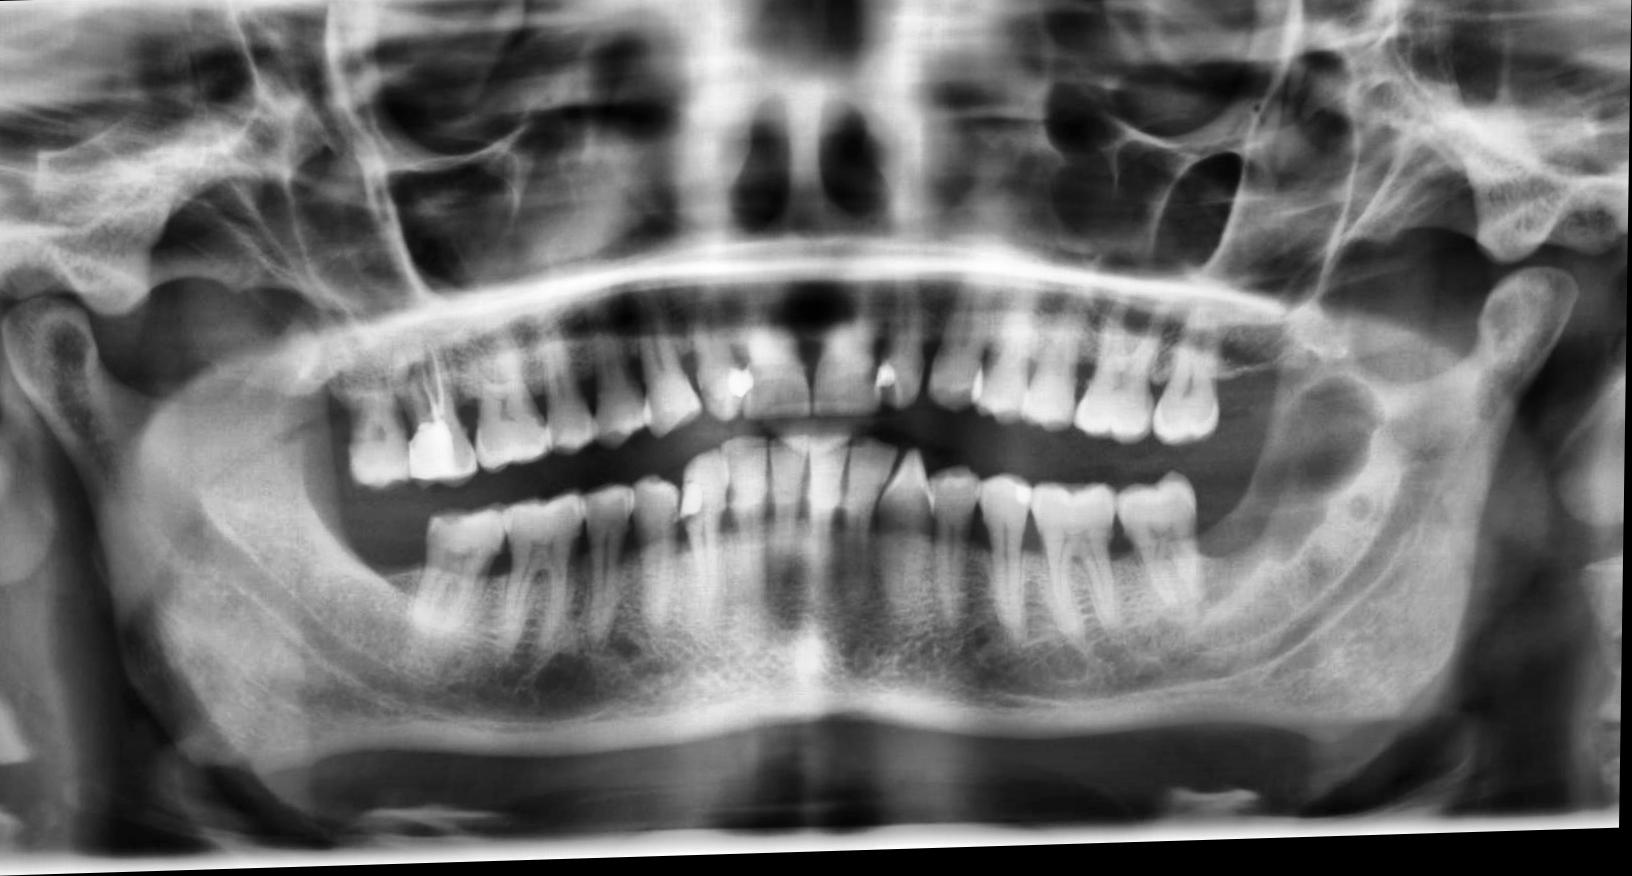keratokist: (1196, 383, 1390, 615)
